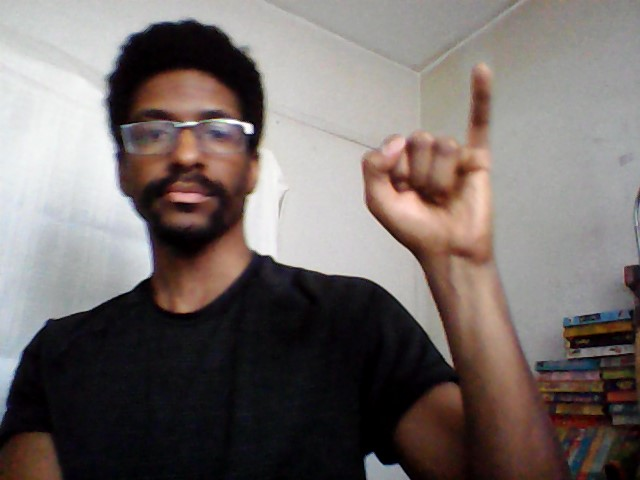i: (355, 57, 502, 265)
